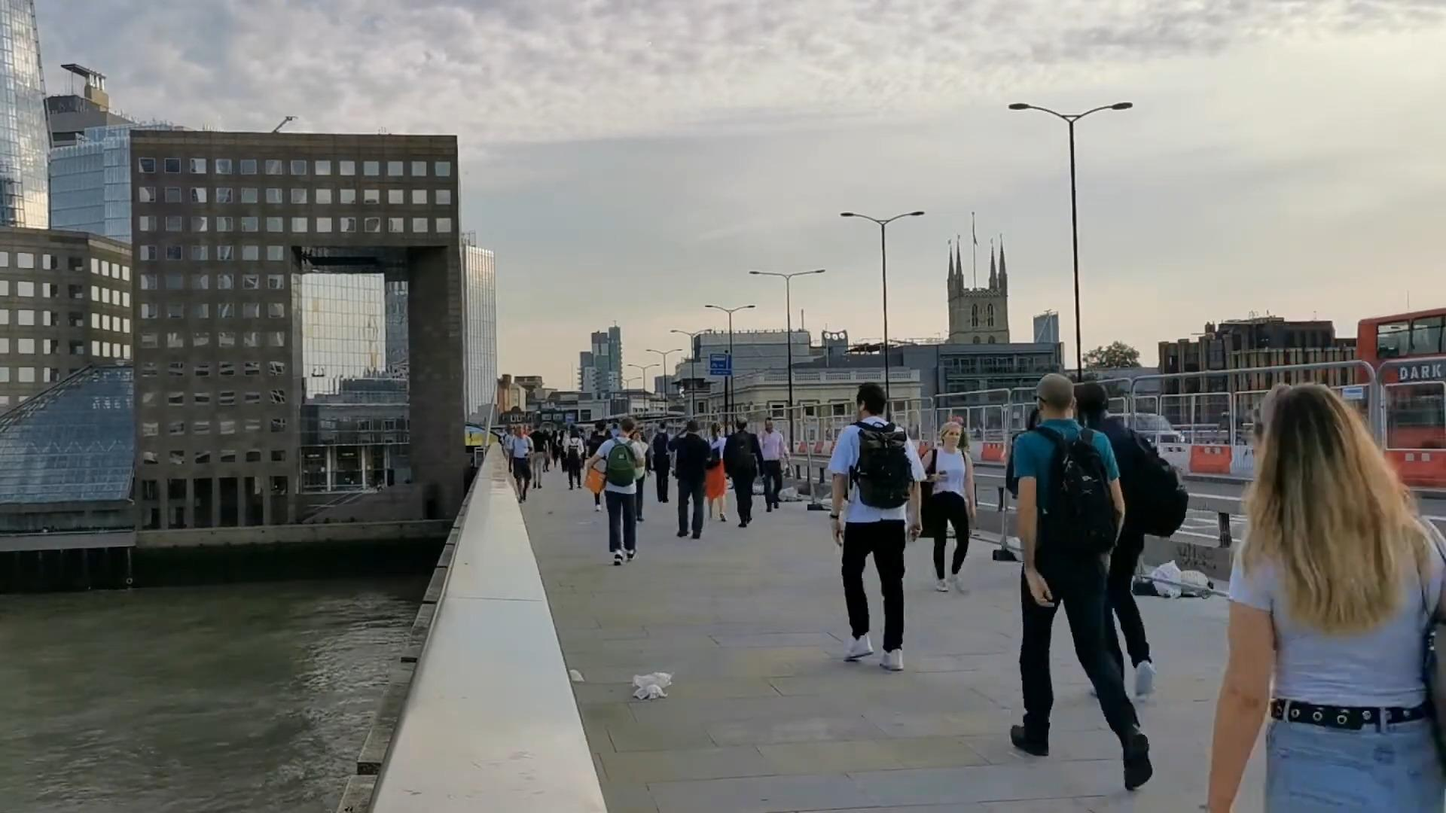no-helmet: (1242, 382, 1412, 535), (1031, 374, 1076, 419), (1076, 381, 1110, 425), (855, 381, 885, 419), (939, 422, 962, 448), (618, 417, 636, 438), (686, 419, 701, 435), (711, 422, 722, 438), (735, 417, 747, 431), (595, 420, 606, 435)
